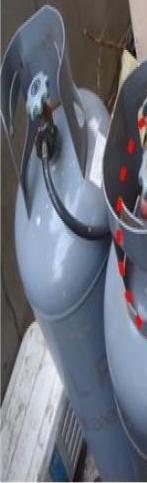cylinder: (1, 0, 147, 483)
